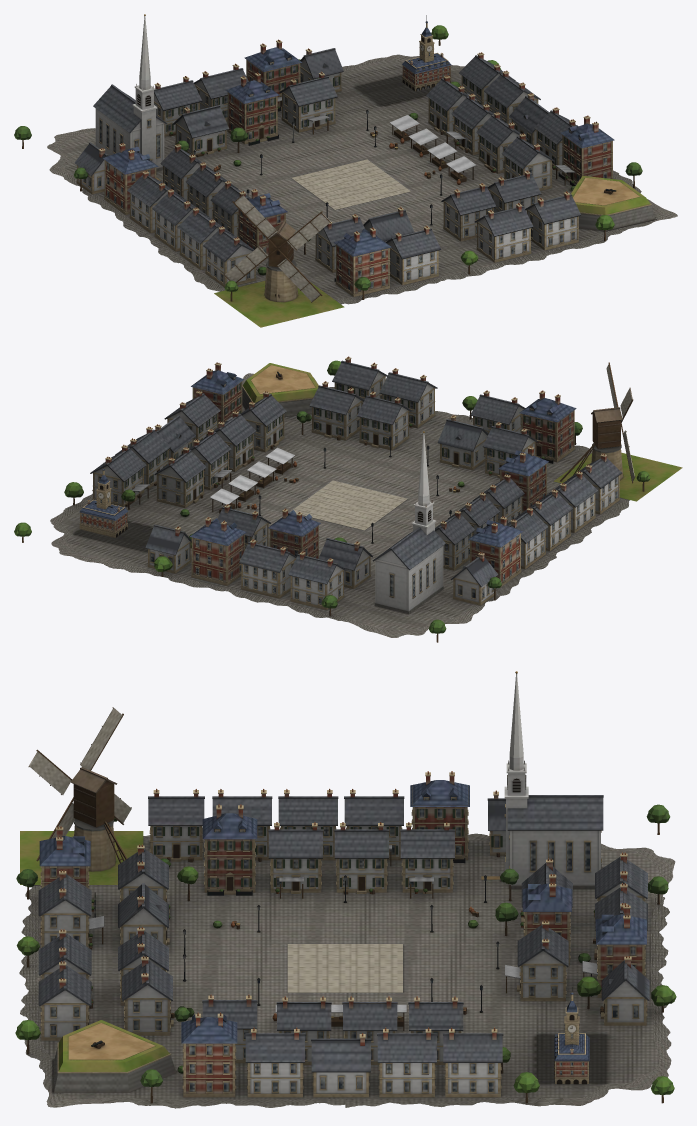
Rendered from gunpowder-town-big-a-colonies-f0285805.glb.
The picture shows the model from 3 angles, top to bottom: view 1: azimuth 30°, elevation 25°; view 2: azimuth 150°, elevation 25°; view 3: azimuth 270°, elevation 25°; orthographic projection. The views are drawn at different scales.
Visible parts, largest first — view 1: LOD0; view 2: LOD0; view 3: LOD0.
Boxes of the visible parts, x1=… form: LOD0: x1=14, y1=14, x2=677, y2=327; LOD0: x1=14, y1=356, x2=682, y2=642; LOD0: x1=15, y1=671, x2=676, y2=1108.
Size of what is drawn, in the model's own units: 8.05 by 2.8 by 8.12.
3 materials, 3 textured.
